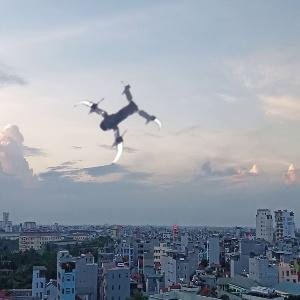drone: (74, 82, 155, 163)
